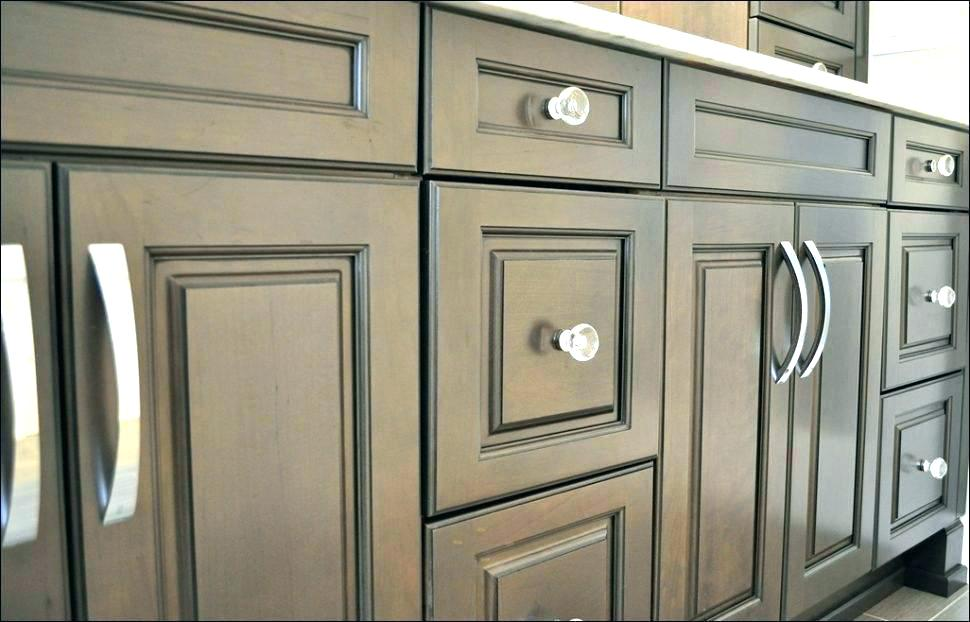cabinet door: (84, 180, 417, 622), (435, 193, 654, 448), (680, 218, 779, 609), (432, 18, 654, 168), (4, 165, 68, 622), (801, 213, 875, 559), (441, 507, 646, 622), (886, 216, 970, 373), (877, 387, 970, 526), (892, 124, 968, 199)
handle: (86, 240, 148, 515), (2, 245, 47, 543), (763, 238, 806, 384), (803, 234, 831, 381), (543, 78, 588, 134), (559, 321, 599, 367), (920, 284, 957, 320), (921, 146, 957, 177), (922, 448, 949, 488)
